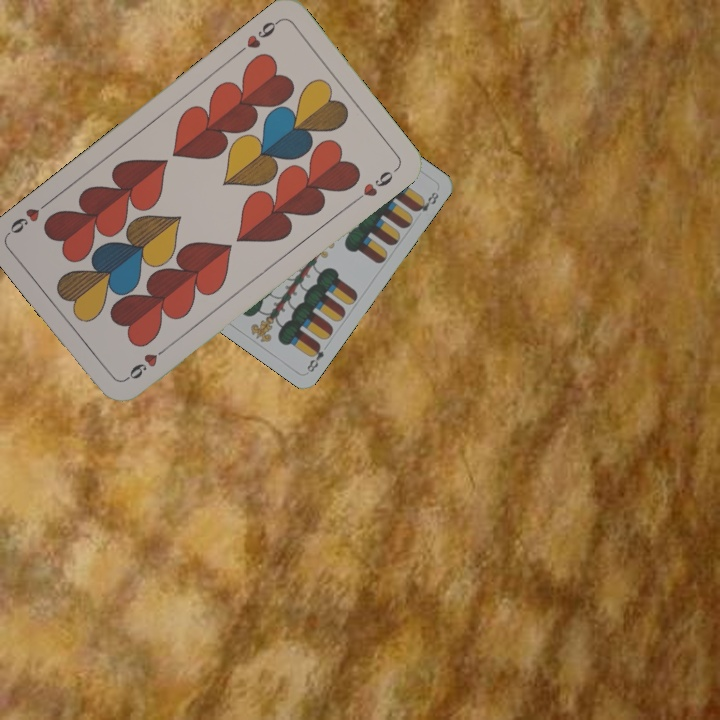E8: (303, 339, 327, 375)
H9: (120, 342, 171, 384), (233, 15, 283, 57)
